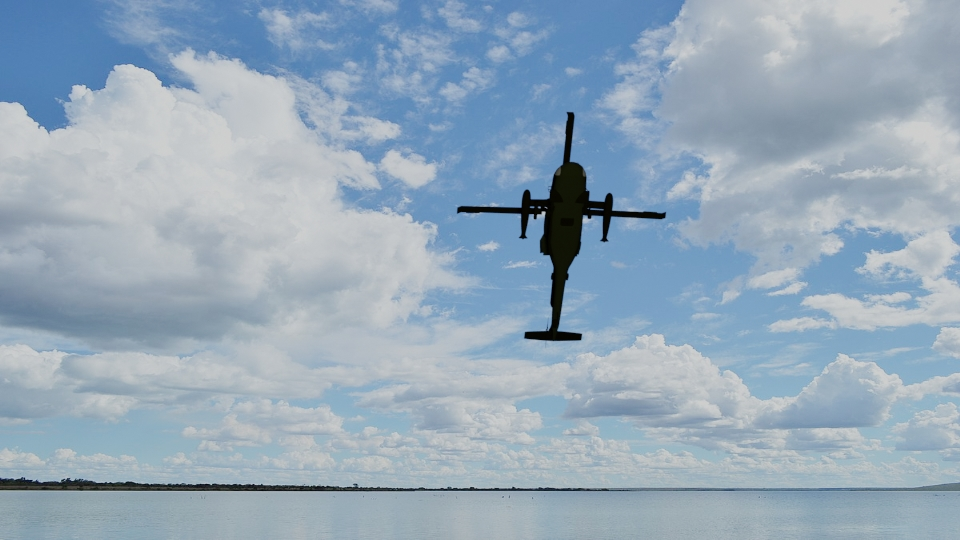heli: (457, 110, 667, 342)
